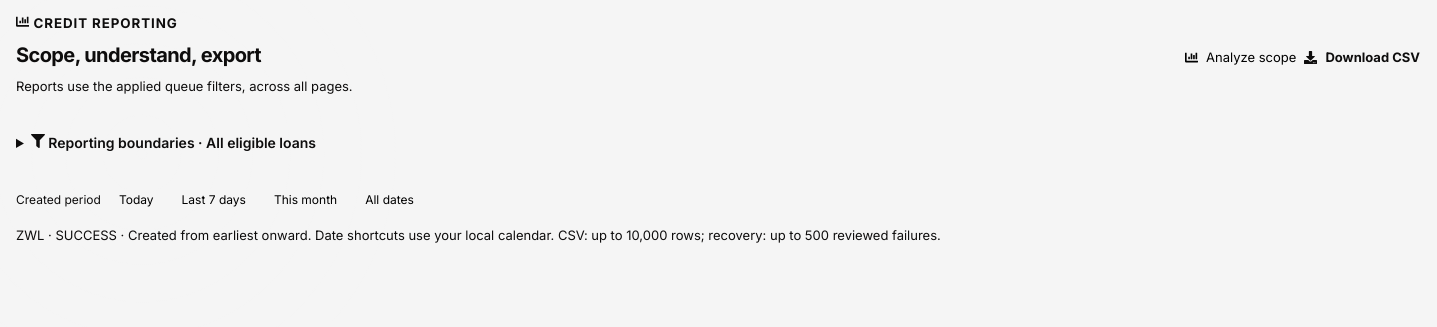
Test case: oversized export displays the server explanation
What coordinates should you click on to do the following:
click the button "Download CSV"
I would click on:
 (1362, 57)
Its box is top-left (1304, 47), bottom-right (1420, 68).
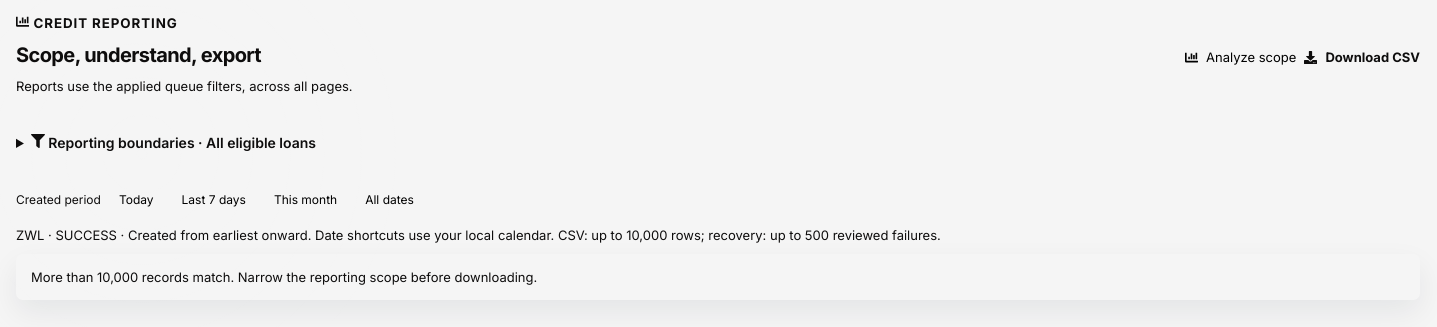
expect the message shows "10,000": met, box top-left (31, 269), bottom-right (537, 285)
